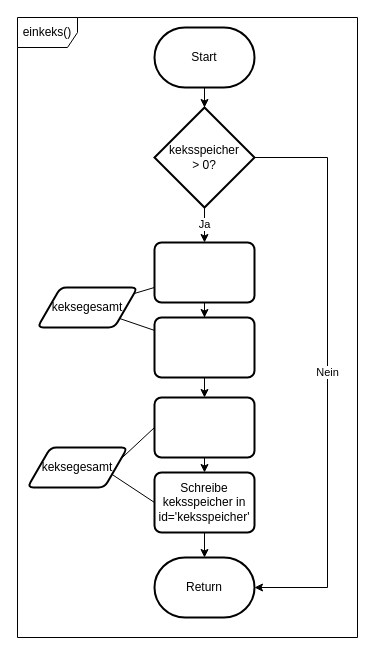
This 375x655 diagram has some shape labels left out. The centre of each missing label's shape, as x and y in pixels:
"keksegesamt++" goes at point (204, 272).
"keksspeicher--" goes at point (204, 427).
"Schreibe keksegesamt in id='keksanzahl'" goes at point (204, 347).
